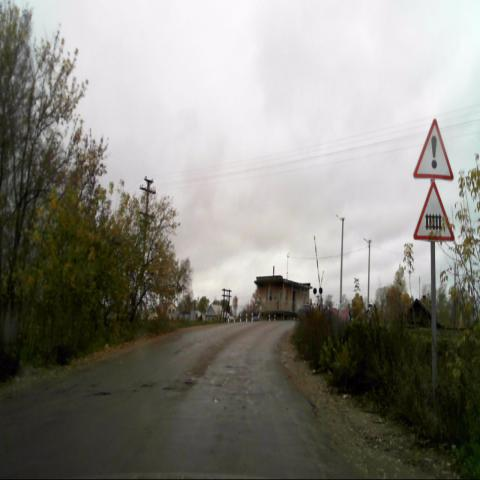1_33: (414, 118, 453, 180)
